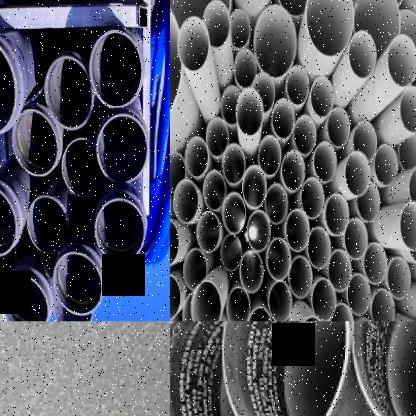pipe: (219, 321, 350, 416), (170, 321, 239, 416), (348, 321, 416, 416), (90, 29, 143, 109), (96, 113, 148, 184), (44, 55, 93, 130), (95, 198, 146, 263), (11, 108, 59, 177), (52, 252, 103, 316), (254, 5, 296, 78), (353, 0, 400, 60), (306, 0, 353, 57), (61, 138, 104, 198), (27, 196, 69, 254), (1, 275, 49, 321), (170, 0, 232, 29), (178, 17, 210, 71), (0, 36, 16, 137), (387, 35, 416, 87), (0, 186, 19, 258), (236, 88, 264, 136), (349, 30, 377, 78), (201, 0, 229, 47), (191, 280, 221, 321), (345, 151, 371, 196), (174, 179, 198, 224), (387, 256, 411, 300), (311, 279, 336, 321), (288, 256, 313, 298), (266, 238, 291, 280), (307, 226, 331, 269), (247, 209, 271, 252), (240, 251, 264, 294), (221, 192, 246, 233), (344, 218, 368, 260), (325, 193, 349, 235), (356, 181, 380, 223), (347, 274, 371, 316), (183, 249, 207, 291), (286, 209, 309, 252), (243, 165, 266, 208), (258, 135, 282, 176), (301, 177, 324, 219), (375, 144, 398, 186), (314, 141, 337, 183), (311, 76, 334, 118), (328, 250, 351, 292), (364, 242, 387, 284), (293, 115, 317, 155), (282, 150, 305, 191), (353, 121, 377, 160), (197, 211, 219, 253), (203, 170, 226, 210), (222, 144, 245, 184), (185, 136, 208, 176), (206, 117, 229, 157), (252, 72, 275, 112), (286, 66, 309, 106), (268, 281, 291, 321), (266, 183, 288, 224), (272, 98, 294, 139), (327, 108, 350, 147), (234, 49, 257, 88), (399, 200, 416, 250), (230, 9, 251, 49), (227, 286, 250, 322), (221, 233, 242, 272), (221, 86, 241, 126), (275, 0, 317, 19), (371, 288, 394, 322), (399, 86, 416, 131), (170, 150, 185, 192), (398, 135, 416, 170), (170, 217, 179, 267), (170, 275, 180, 320), (330, 303, 354, 321), (248, 306, 272, 321), (409, 165, 416, 210), (410, 224, 416, 264)
